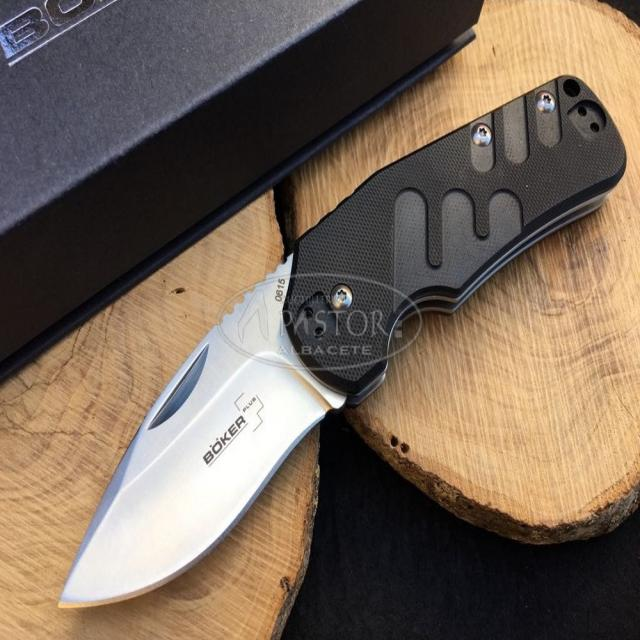knife: (57, 52, 633, 616)
